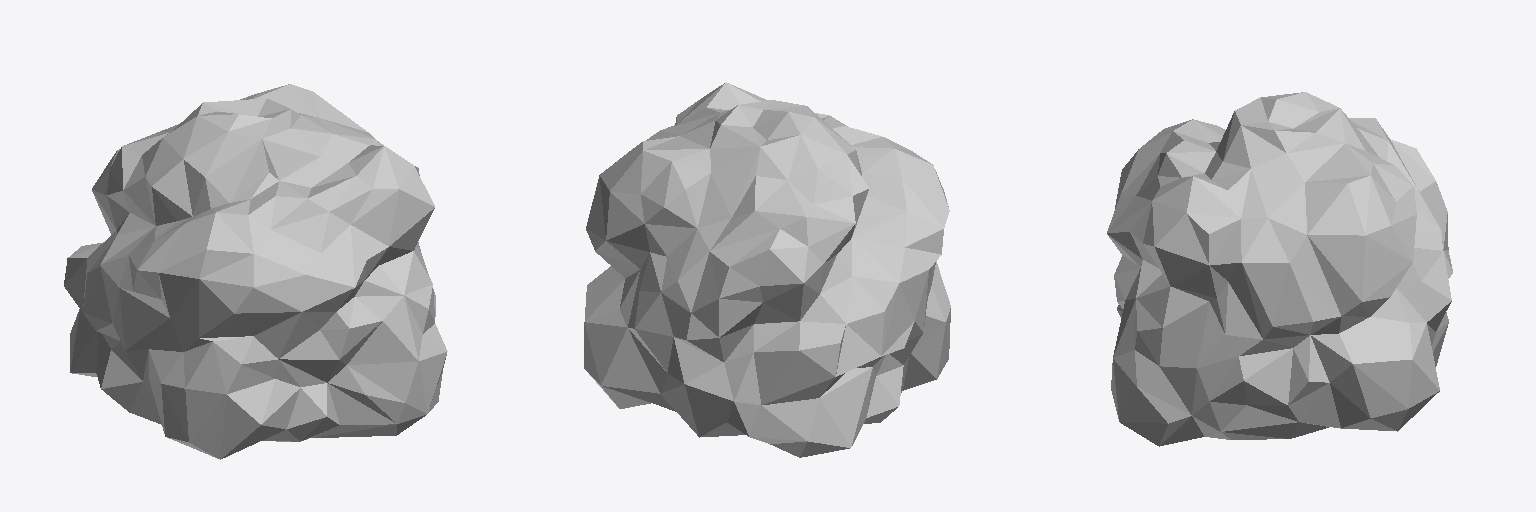
Rendered from boulder_0.obj.
3 views of the same model, side by side, from view 1: azimuth 30°, elevation 25°; view 2: azimuth 150°, elevation 25°; view 3: azimuth 270°, elevation 25° (orthographic).
Visible parts, largest first — view 1: Icosphere.001; view 2: Icosphere.001; view 3: Icosphere.001.
Part boxes in pixels (bbox=[...]): Icosphere.001: bbox=[64, 84, 447, 459]; Icosphere.001: bbox=[584, 82, 950, 457]; Icosphere.001: bbox=[1107, 92, 1452, 446].
Size of the model in its own units: 1.18 by 1.11 by 1.19.